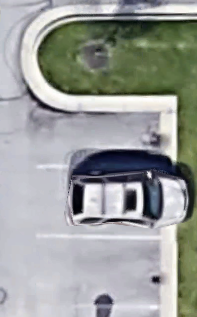Occupied: (35, 166, 168, 236)
Vacant: (36, 236, 168, 308), (35, 105, 168, 166)
